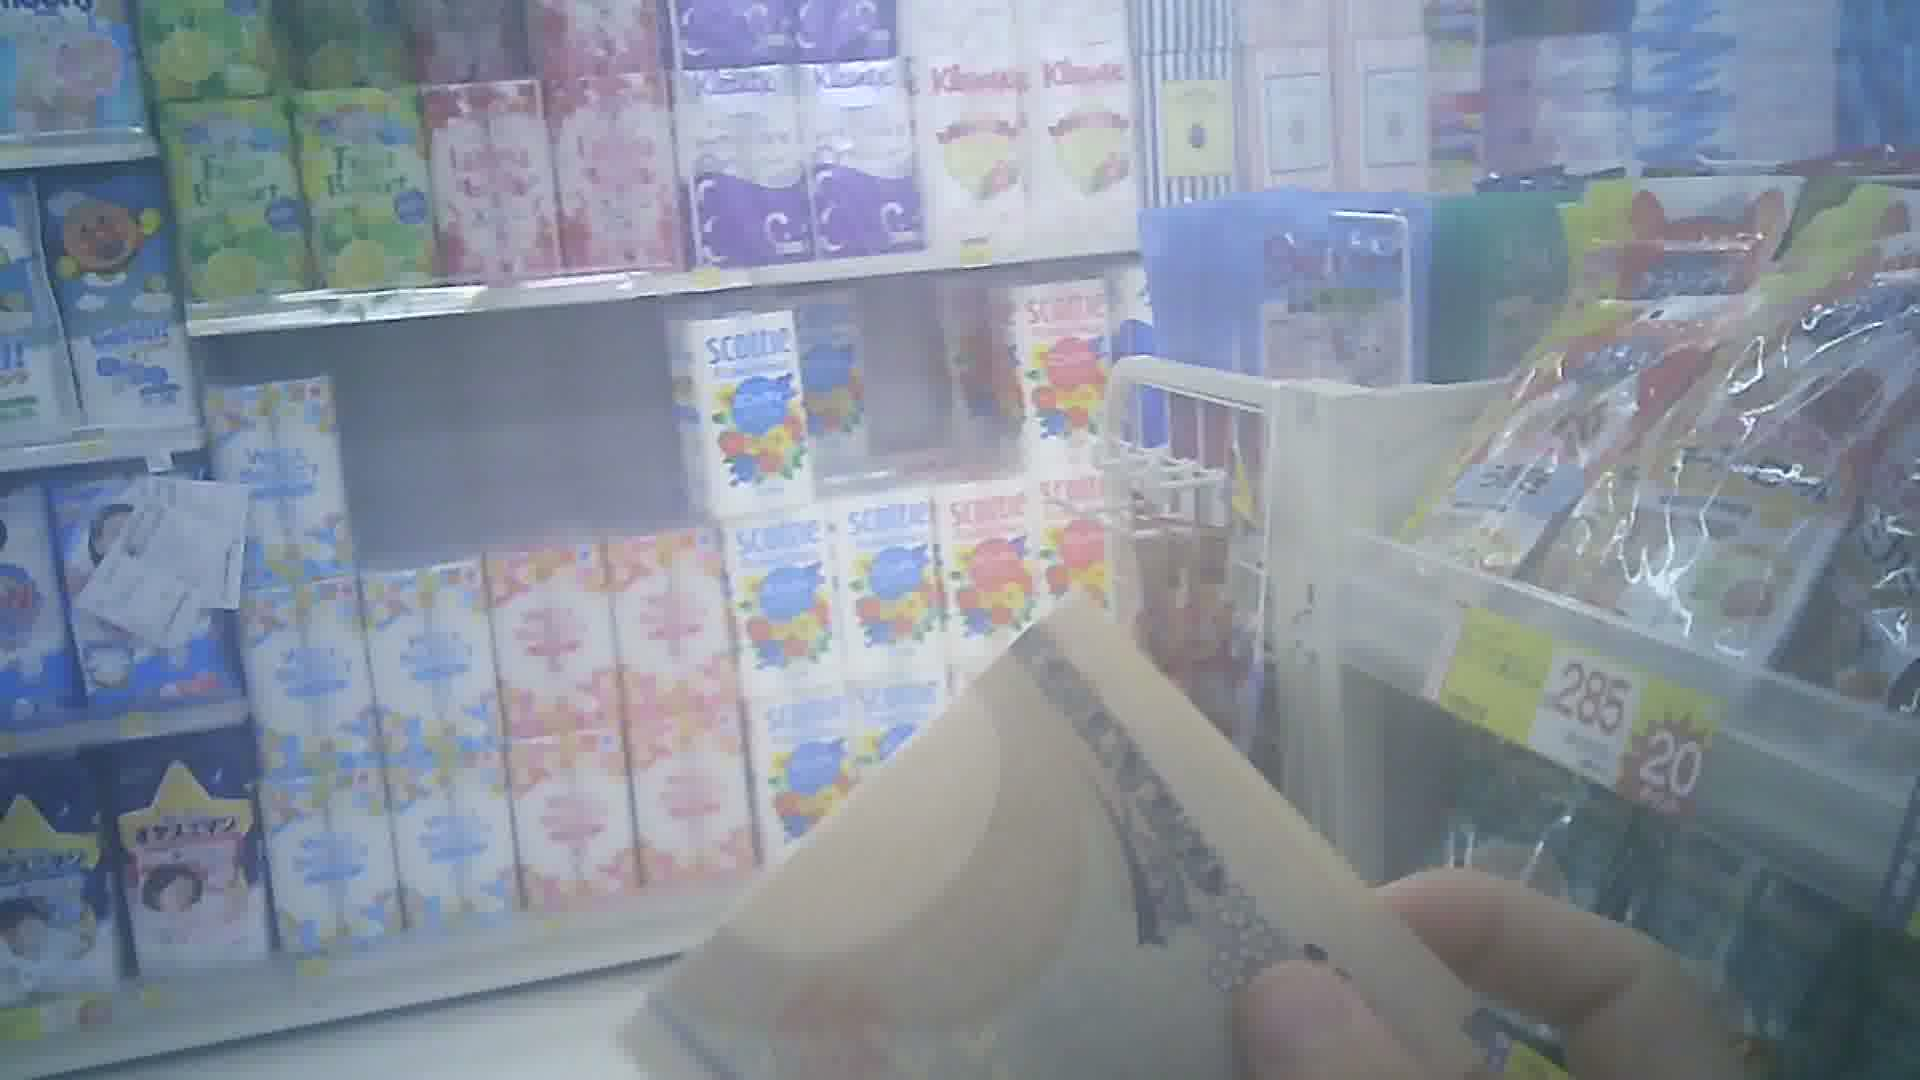1,000 Yen: (637, 592, 1431, 1079)
